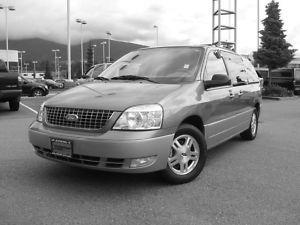car: (28, 46, 263, 183)
